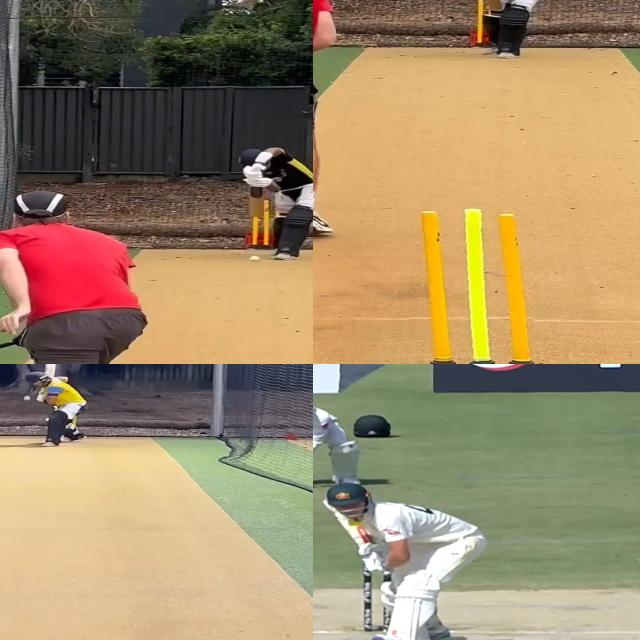Cricket ball: (249, 255, 261, 262), (23, 395, 32, 401)
Stumps: (395, 208, 534, 364)
